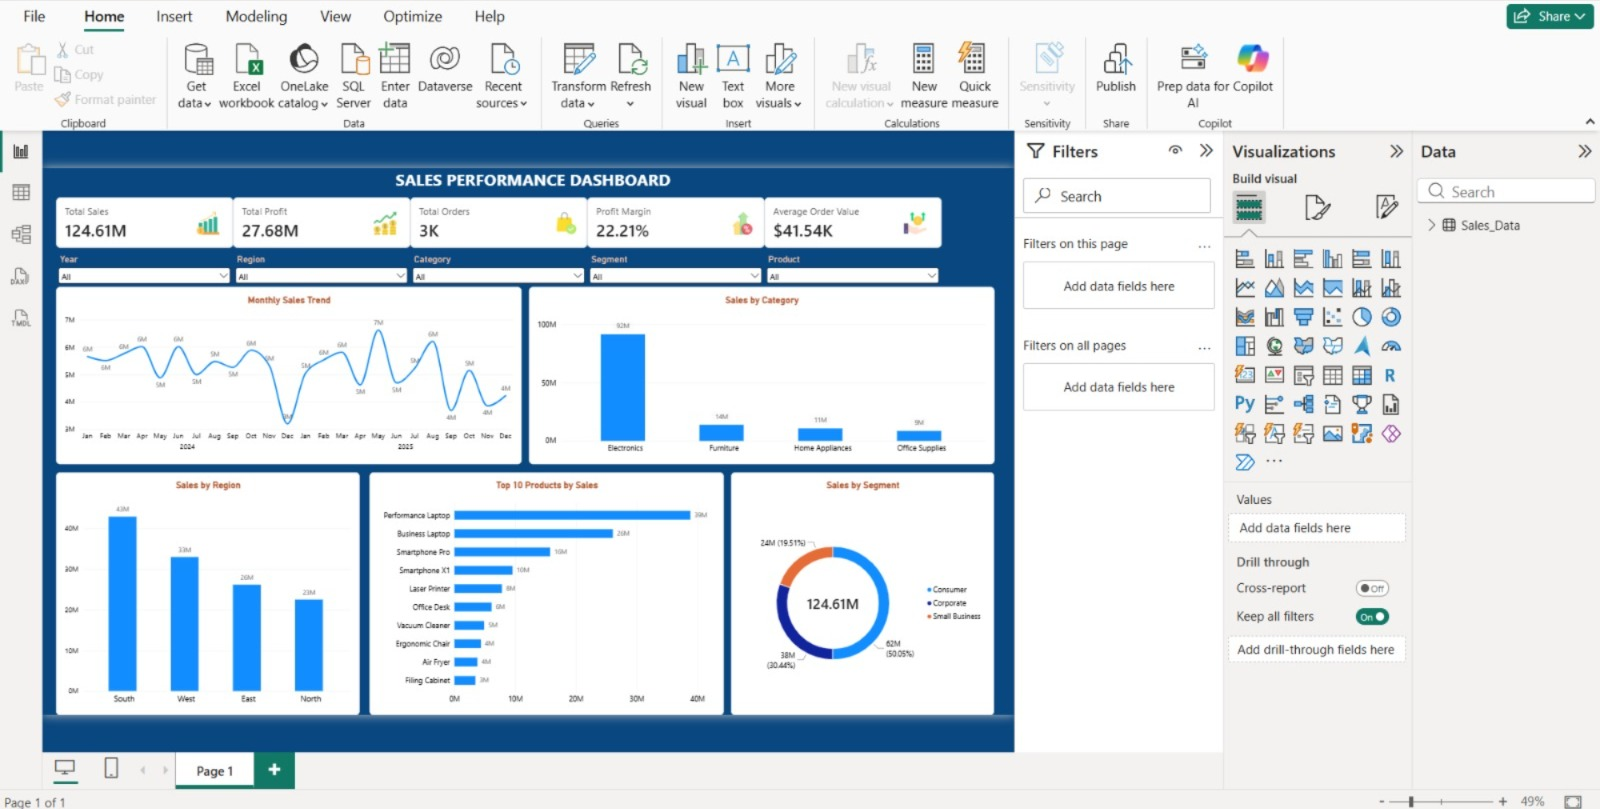

This screenshot's page, from the dashboard's own definition file:
{"tool":"powerbi","page":{"name":"Page 1","canvas":[1920,1080],"ordinal":0},"visuals":[{"type":"cardVisual","fields":{"Data":["Sales_Data.Total Sales"]},"box":[26.8,57.6,350,100],"z":0},{"type":"cardVisual","fields":{"Data":["Sales_Data.Total Profit"]},"box":[376.7,57.6,350,100],"z":1000},{"type":"cardVisual","fields":{"Data":["Sales_Data.Total Orders"]},"box":[726.6,57.6,350,100],"z":2000},{"type":"cardVisual","fields":{"Data":["Sales_Data.Profit Margin"]},"box":[1076.5,57.6,350,100],"z":3000},{"type":"cardVisual","fields":{"Data":["Sales_Data.Average Order Value"]},"box":[1426.4,57.6,350,100],"z":4000},{"type":"lineChart","title":"Monthly Sales Trend","fields":{"Category":["Sales_Data.Year","Sales_Data.Month"],"Y":["Sales_Data.Total Sales"]},"box":[26.8,234.6,920,350],"z":5000},{"type":"clusteredColumnChart","title":"Sales by Category","fields":{"Category":["Sales_Data.Category"],"Y":["Sales_Data.Total Sales"]},"box":[961.2,234.6,920,350],"z":6000},{"type":"clusteredColumnChart","title":"Sales by Region","fields":{"Category":["Sales_Data.Region"],"Y":["Sales_Data.Total Sales"]},"box":[26.8,601,600,480],"z":7000},{"type":"clusteredBarChart","title":"Top 10 Products by Sales","fields":{"Category":["Sales_Data.Product_Name"],"Y":["Sales_Data.Total Sales"]},"box":[646.3,601,700,480],"z":8000},{"type":"donutChart","title":"Sales by Segment","fields":{"Category":["Sales_Data.Segment"],"Y":["Sales_Data.Total Sales"]},"box":[1360.6,601,520,480],"z":9000},{"type":"slicer","fields":{"Values":["Sales_Data.Year"]},"box":[26.8,168.8,350,70],"z":10000},{"type":"slicer","fields":{"Values":["Sales_Data.Region"]},"box":[376.7,168.8,350,70],"z":11000},{"type":"slicer","fields":{"Values":["Sales_Data.Category"]},"box":[726.6,168.8,350,70],"z":12000},{"type":"slicer","fields":{"Values":["Sales_Data.Segment"]},"box":[1076.5,168.8,350,70],"z":13000},{"type":"slicer","fields":{"Values":["Sales_Data.Product_Name"]},"box":[1426.4,168.8,350,70],"z":14000},{"type":"textbox","box":[697.8,0,599,57.6],"z":15000},{"type":"image","box":[304.6,86.4,45,45],"z":16000},{"type":"image","box":[654.5,86.4,45,45],"z":17000},{"type":"image","box":[1012.7,86.4,45,45],"z":18000},{"type":"image","box":[1360.6,86.4,45,45],"z":19000},{"type":"image","box":[1702.2,86.4,45,45],"z":20000}]}

Visuals, with their boxes on the page's 1920x1080 design canvas (x1, y1, x2, y2). These are canvas units, not pixel positions in the 1600x809 screenshot, which may show the page scaled, cropped or inside an application window:
cardVisual - Sales_Data.Total Sales: <bbox>27, 58, 377, 158</bbox>
cardVisual - Sales_Data.Total Profit: <bbox>377, 58, 727, 158</bbox>
cardVisual - Sales_Data.Total Orders: <bbox>727, 58, 1077, 158</bbox>
cardVisual - Sales_Data.Profit Margin: <bbox>1076, 58, 1426, 158</bbox>
cardVisual - Sales_Data.Average Order Value: <bbox>1426, 58, 1776, 158</bbox>
"Monthly Sales Trend" lineChart: <bbox>27, 235, 947, 585</bbox>
"Sales by Category" clusteredColumnChart: <bbox>961, 235, 1881, 585</bbox>
"Sales by Region" clusteredColumnChart: <bbox>27, 601, 627, 1081</bbox>
"Top 10 Products by Sales" clusteredBarChart: <bbox>646, 601, 1346, 1081</bbox>
"Sales by Segment" donutChart: <bbox>1361, 601, 1881, 1081</bbox>
slicer - Sales_Data.Year: <bbox>27, 169, 377, 239</bbox>
slicer - Sales_Data.Region: <bbox>377, 169, 727, 239</bbox>
slicer - Sales_Data.Category: <bbox>727, 169, 1077, 239</bbox>
slicer - Sales_Data.Segment: <bbox>1076, 169, 1426, 239</bbox>
slicer - Sales_Data.Product_Name: <bbox>1426, 169, 1776, 239</bbox>
textbox: <bbox>698, 0, 1297, 58</bbox>
image: <bbox>305, 86, 350, 131</bbox>
image: <bbox>654, 86, 700, 131</bbox>
image: <bbox>1013, 86, 1058, 131</bbox>
image: <bbox>1361, 86, 1406, 131</bbox>
image: <bbox>1702, 86, 1747, 131</bbox>
